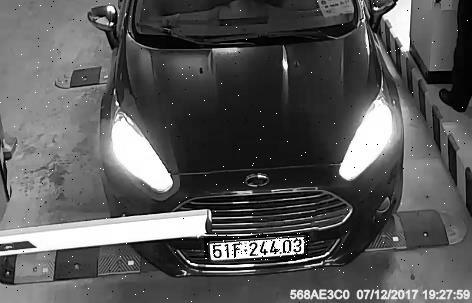License-plate: (206, 234, 311, 261)
